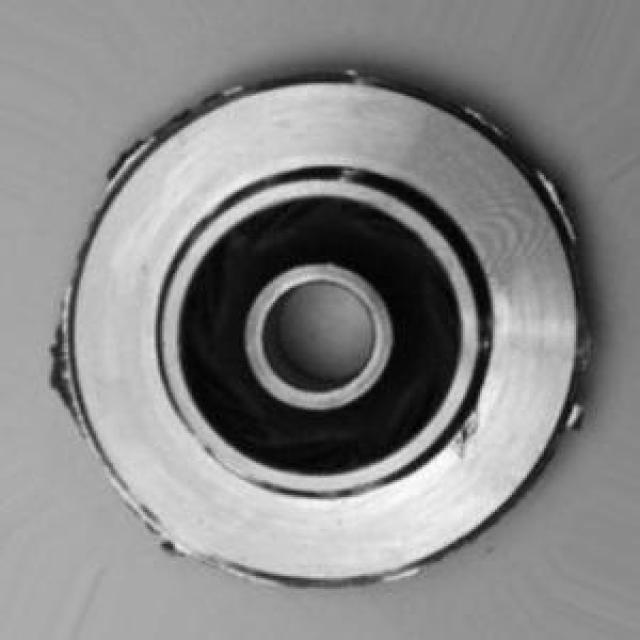Defect: (32, 328, 79, 409), (452, 410, 492, 454)
